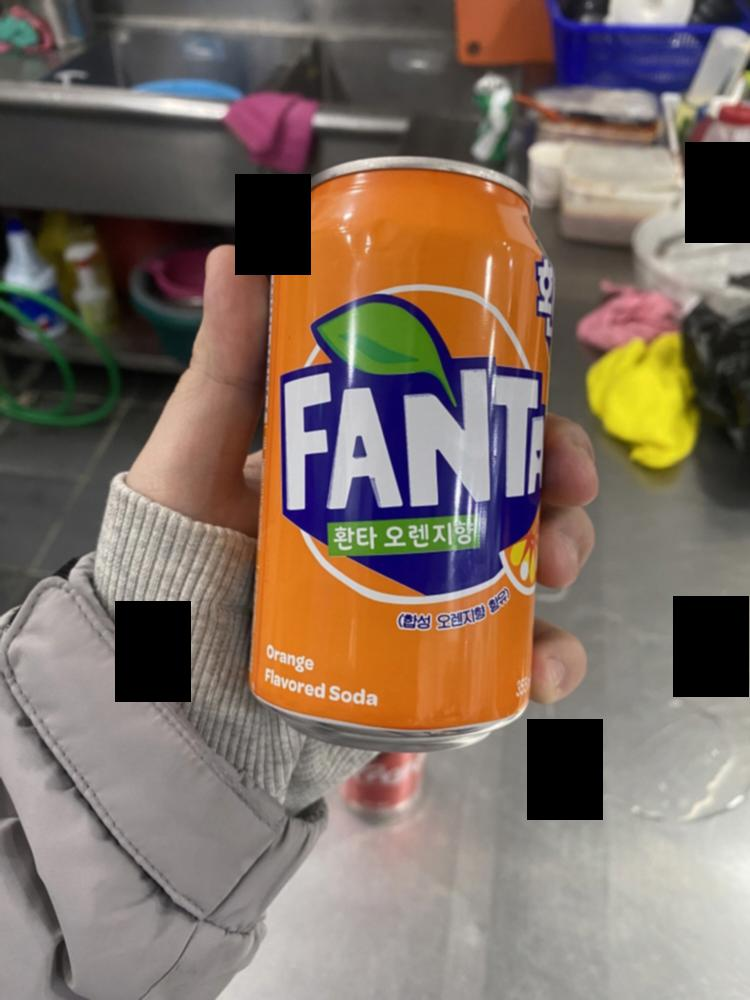fanta_orange: (259, 152, 547, 733)
